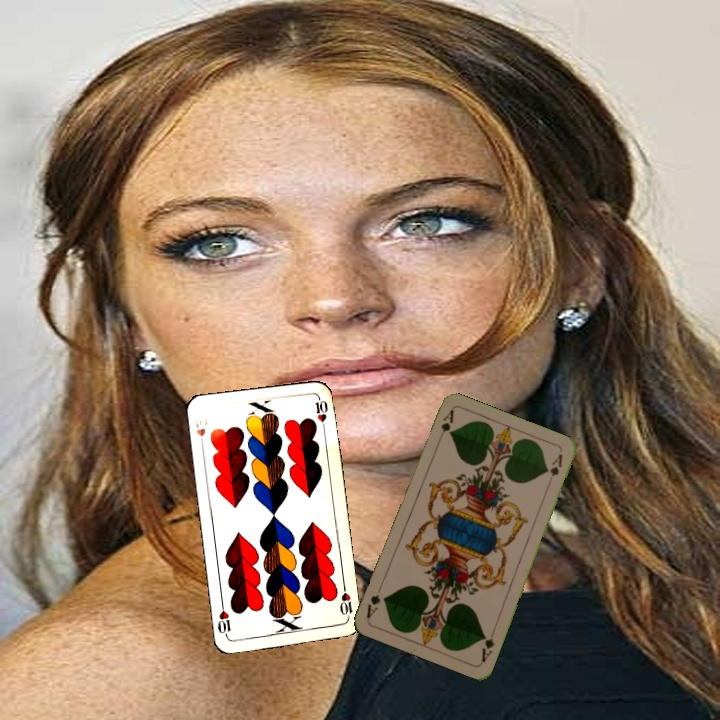GA: (477, 625, 498, 665), (435, 406, 456, 445)
H10: (336, 582, 355, 622), (191, 413, 210, 450)
